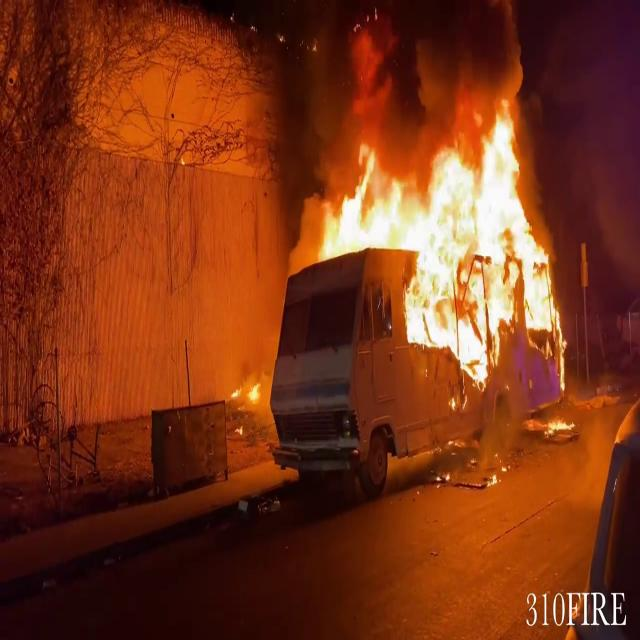Fire: (310, 98, 569, 360)
